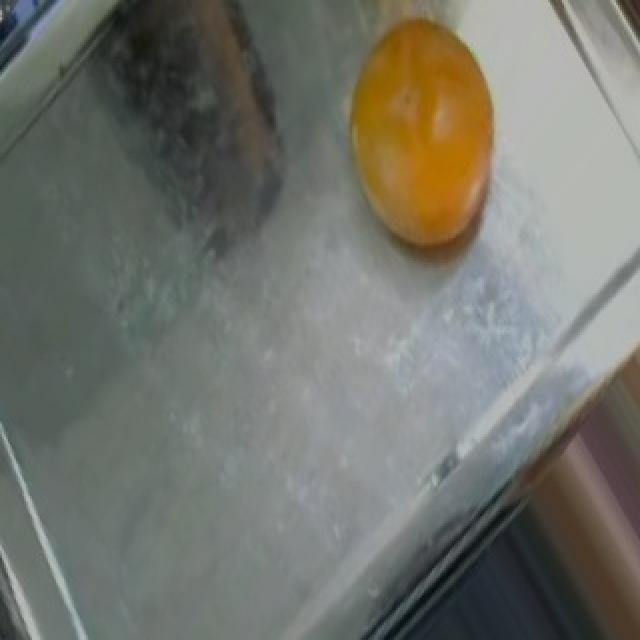Fruit: (318, 10, 526, 285), (584, 0, 640, 191)
